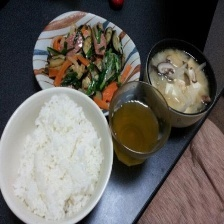rice: (13, 94, 105, 220)
